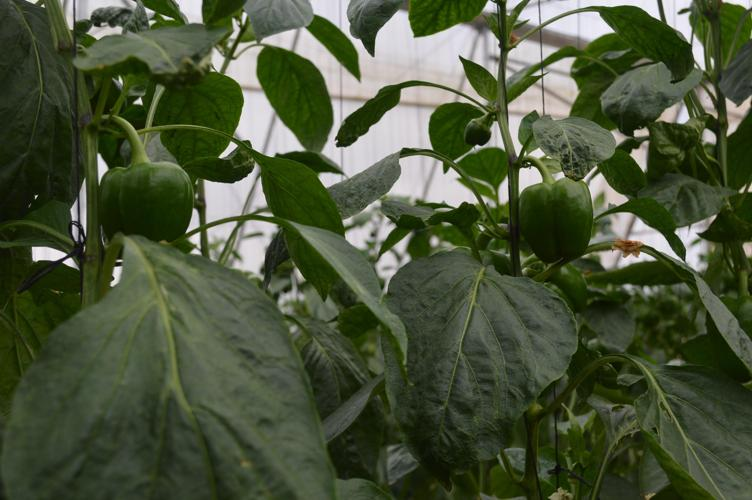BellPepper: (92, 156, 218, 255), (511, 171, 609, 276)
